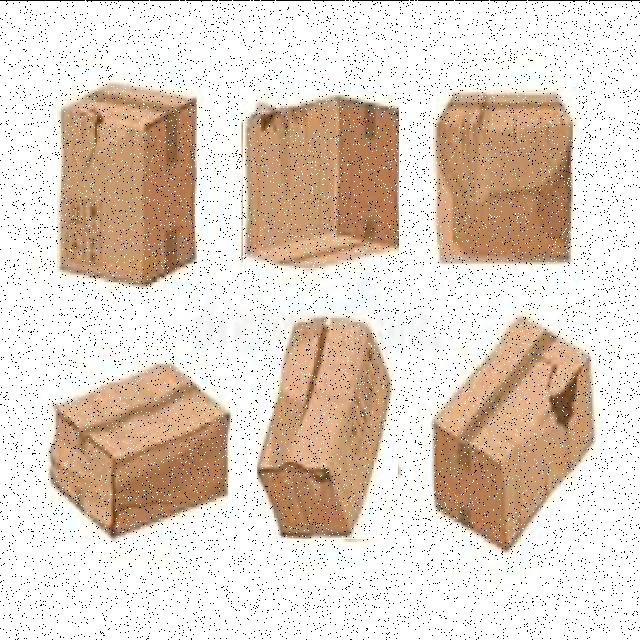defect: (430, 310, 596, 558), (43, 358, 239, 542), (54, 75, 204, 288), (257, 312, 398, 538), (243, 92, 399, 276), (429, 91, 585, 274)
